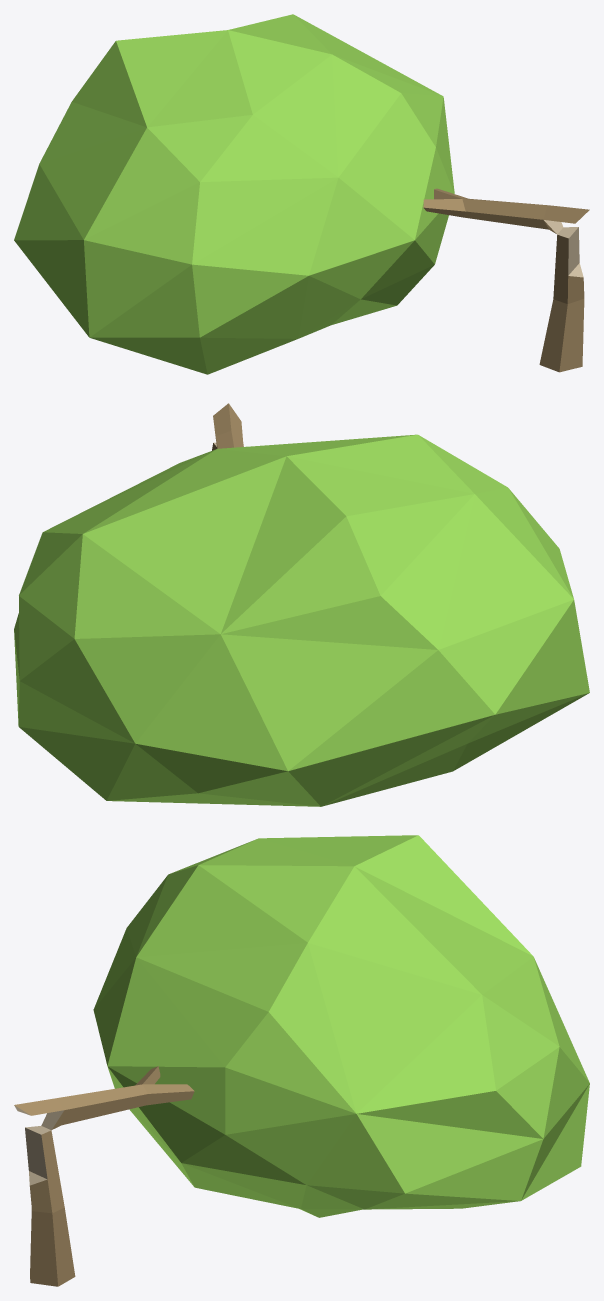
File: Apple_Tree_crk_m_01_LOD.fbx
3 renders of one model, top to bottom at view 1: azimuth 30°, elevation 25°; view 2: azimuth 150°, elevation 25°; view 3: azimuth 270°, elevation 25°, orthographic. The views are drawn at different scales.
Visible parts, largest first — view 1: Apple_Tree_crk_m_01_LOD0; view 2: Apple_Tree_crk_m_01_LOD0; view 3: Apple_Tree_crk_m_01_LOD0.
Boxes of the visible parts, bbox=[...] form: Apple_Tree_crk_m_01_LOD0: bbox=[14, 14, 589, 374]; Apple_Tree_crk_m_01_LOD0: bbox=[14, 403, 589, 806]; Apple_Tree_crk_m_01_LOD0: bbox=[14, 835, 589, 1286].
Size of what is drawn, in the model's own units: 494 by 310 by 529.
